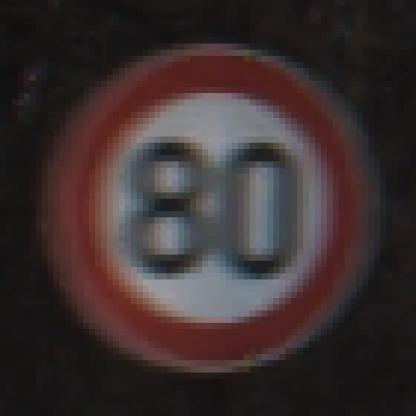Speed Limit 80: (60, 45, 366, 368)
